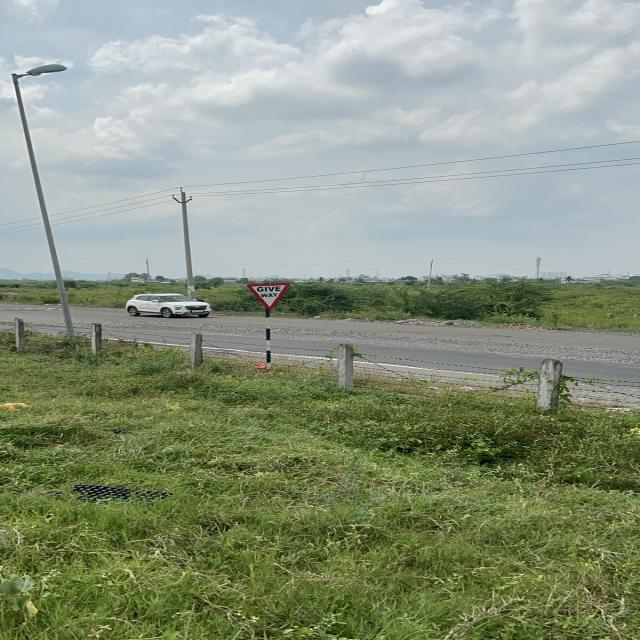giveway: (249, 283, 292, 309)
